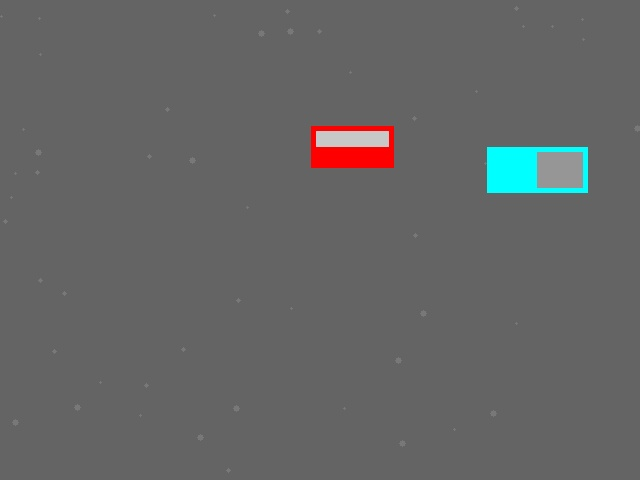car: (311, 126, 393, 167)
truck: (487, 147, 587, 192)
